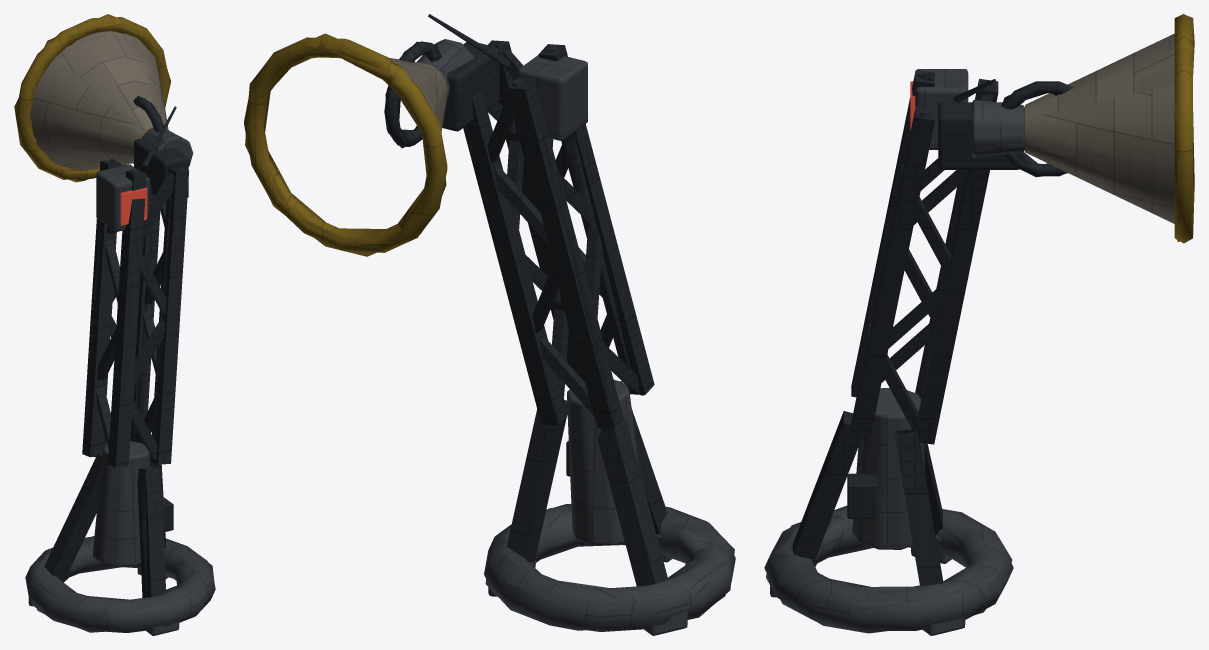
Rendered from place_whistle.glb.
The picture shows the model from 3 angles, left to right: view 1: azimuth 30°, elevation 25°; view 2: azimuth 150°, elevation 25°; view 3: azimuth 270°, elevation 25°; orthographic projection. The views are drawn at different scales.
Visible parts, largest first — view 1: LOD0_Mechanical, LOD1_Mechanical, LOD0_Armor, LOD0_Hull, LOD1_Hull, LOD0_Livery, LOD2_Armor, LOD2_Mechanical, LOD1_Armor, LOD2_Hull, LOD2_Livery, LOD1_Livery (+1 smaller); view 2: LOD0_Mechanical, LOD0_Armor, LOD1_Mechanical, LOD0_Livery, LOD2_Armor, LOD2_Livery, LOD1_Armor, LOD2_Mechanical, LOD1_Livery, LOD0_Hull; view 3: LOD0_Mechanical, LOD0_Armor, LOD0_Hull, LOD1_Mechanical, LOD2_Armor, LOD1_Hull, LOD2_Mechanical, LOD1_Armor, LOD0_Livery, LOD2_Livery, LOD1_Livery.
Boxes of the visible parts, x1,y1,x2,y2 form: LOD0_Mechanical: (44, 97, 188, 597); LOD1_Mechanical: (45, 101, 188, 596); LOD0_Armor: (25, 128, 215, 635); LOD0_Hull: (30, 31, 167, 170); LOD1_Hull: (30, 31, 168, 170); LOD0_Livery: (15, 17, 169, 179); LOD2_Armor: (28, 129, 214, 635); LOD2_Mechanical: (82, 96, 188, 597); LOD1_Armor: (26, 129, 215, 635); LOD2_Hull: (56, 38, 152, 137); LOD2_Livery: (14, 14, 170, 182); LOD1_Livery: (16, 17, 169, 179); LOD0_Mechanical: (384, 14, 667, 586); LOD0_Armor: (419, 39, 735, 635); LOD1_Mechanical: (384, 17, 667, 583); LOD0_Livery: (244, 37, 447, 252); LOD2_Armor: (417, 39, 734, 635); LOD2_Livery: (245, 33, 446, 256); LOD1_Armor: (421, 39, 735, 635); LOD2_Mechanical: (385, 40, 660, 514); LOD1_Livery: (244, 39, 447, 252); LOD0_Hull: (388, 57, 447, 130); LOD0_Mechanical: (792, 70, 1069, 586); LOD0_Armor: (764, 69, 1024, 635); LOD0_Hull: (1025, 34, 1174, 223); LOD1_Mechanical: (794, 74, 1068, 561); LOD2_Armor: (766, 69, 1024, 635); LOD1_Hull: (1025, 33, 1174, 223); LOD2_Mechanical: (796, 73, 1073, 560); LOD1_Armor: (765, 69, 1024, 635); LOD0_Livery: (1174, 14, 1192, 243); LOD2_Livery: (1174, 14, 1194, 241); LOD1_Livery: (1174, 14, 1192, 242).
Size of what is drawn, in the model's own units: 4.83 by 9.05 by 5.69.
Materials: 7 (5 with a texture image).
